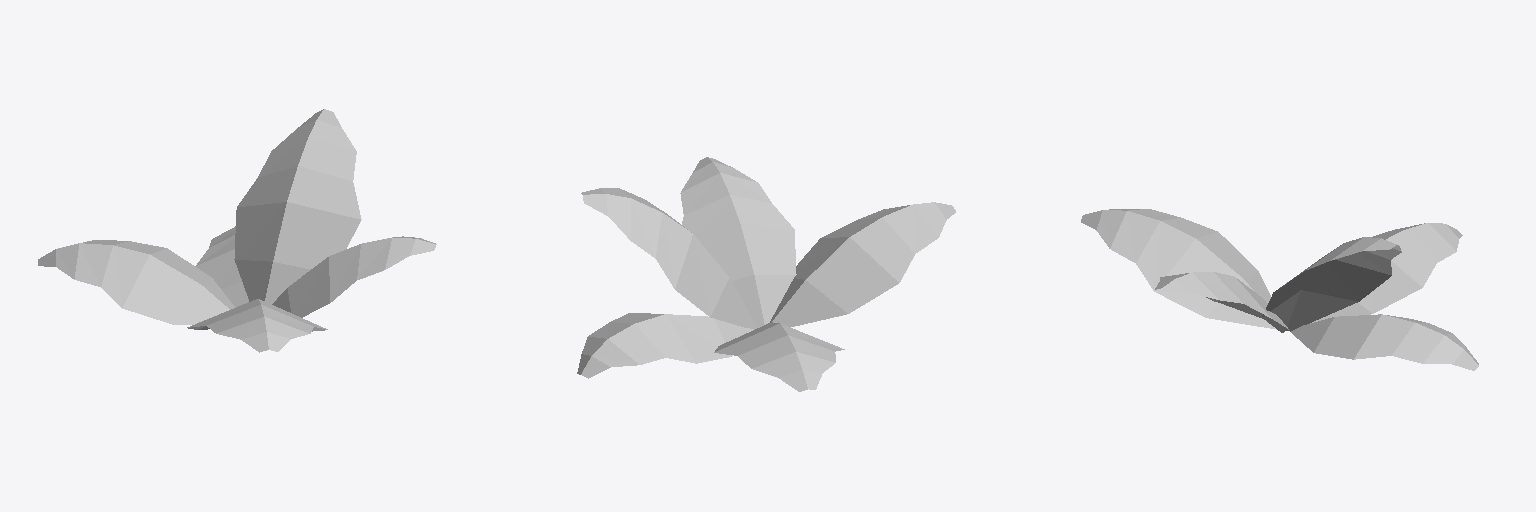
File: fern 02_lod1.obj
3 renders of one model, left to right at view 1: azimuth 30°, elevation 25°; view 2: azimuth 150°, elevation 25°; view 3: azimuth 270°, elevation 25°, orthographic.
Visible parts, largest first — view 1: tree; view 2: tree; view 3: tree.
Boxes of the visible parts, box(x1,y1,x2,y2) form: tree: box(38, 109, 436, 352); tree: box(577, 157, 955, 391); tree: box(1081, 209, 1478, 370).
Bounding box in the file's own units: 99.15 × 52.25 × 129.